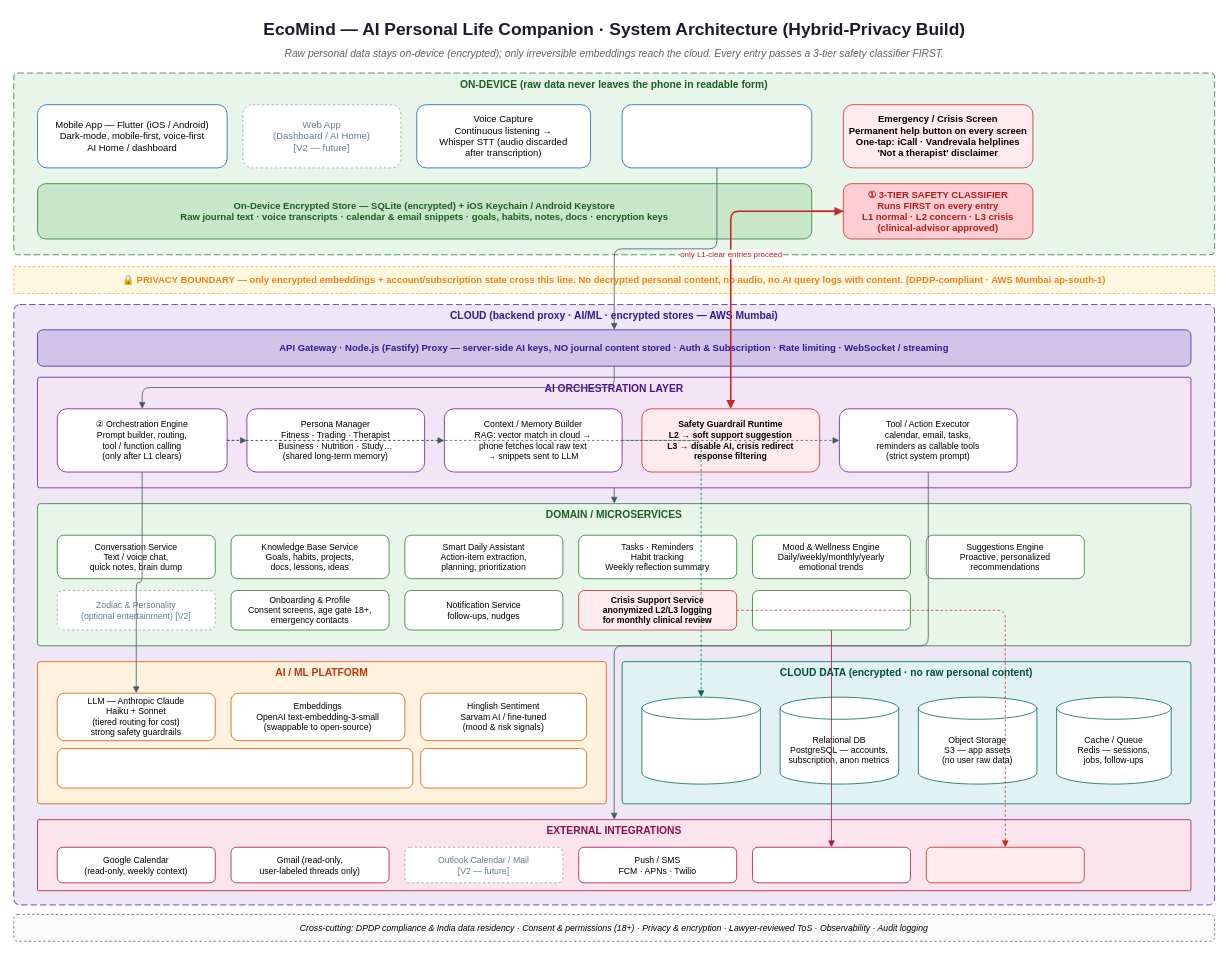
Some shapes in this 1228 by 955 pixel diagram are drawn without their labels. Here are the shapes that lost their labels. From the top down, the centre of each, then its label:
At point 716,136: "On-device Embedding + Personas Encrypt query → send embedding only".
At point 831,610: "Subscription / Billing Razorpay (UPI / cards / wallets)".
At point 700,740: "Vector DB — Pinecone encrypted embeddings ONLY (semantic memory)".
At point 234,768: "Speech-to-Text — OpenAI Whisper (voice → text; audio discarded on device)".
At point 503,768: "Text-to-Speech (voice responses)".
At point 831,864: "Razorpay (UPI / cards / wallets)".
At point 1004,864: "Crisis Helplines iCall · Vandrevala Foundation".
